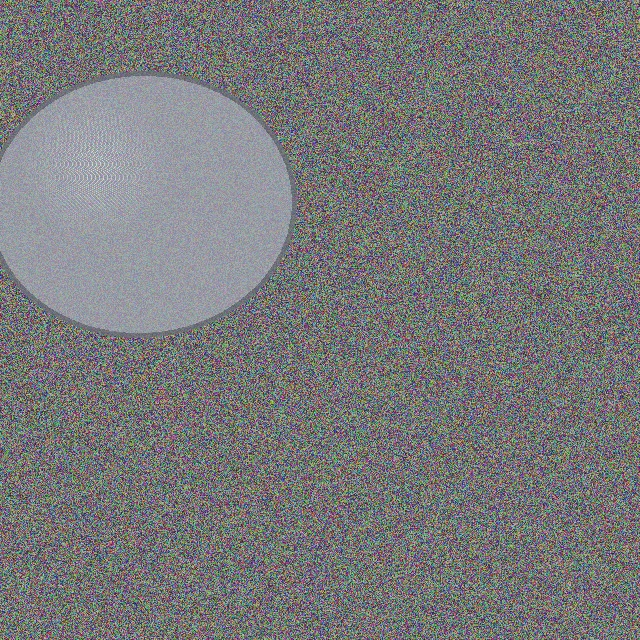lens: (0, 73, 294, 335)
